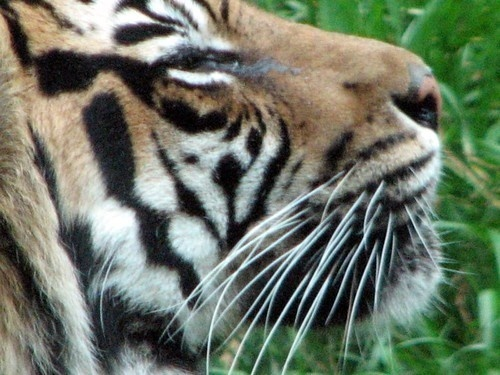tigre: (1, 1, 455, 374)
